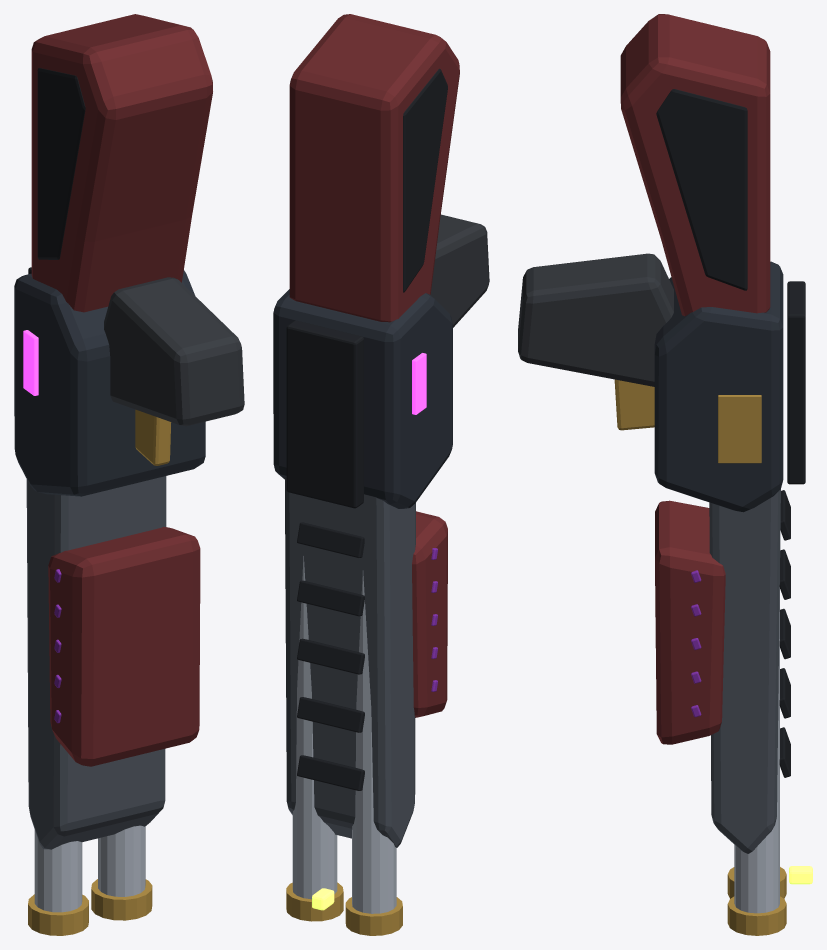
File: BLIKK_B8_BREAKSHOT_MK2.glb
3 views of the same model, side by side, from view 1: azimuth 30°, elevation 25°; view 2: azimuth 150°, elevation 25°; view 3: azimuth 270°, elevation 25° (orthographic). The views are drawn at different scales.
Visible parts, largest first — view 1: Stock, PumpForeEnd, BarrelShroud, Receiver, PistolGrip, StockInset, BarrelLeft, BarrelRight, MuzzleRingRight, MuzzleRingLeft, TriggerGuard, B8Mark; view 2: Stock, BarrelShroud, Receiver, ReceiverTopRail, PumpForeEnd, BarrelLeft, StockInset, BarrelRight, PistolGrip, HeatVent_03, HeatVent_02, HeatVent_04 (+5 smaller); view 3: Stock, Receiver, BarrelShroud, PistolGrip, PumpForeEnd, StockInset, ReceiverTopRail, BarrelRight, EjectionPort, TriggerGuard, MuzzleRingRight.
Part boxes in pixels (x1,y1,x2,y2): Stock: (31,14,212,312); PumpForeEnd: (48,527,200,766); BarrelShroud: (26,476,166,849); Receiver: (14,270,205,496); PistolGrip: (104,277,244,426); StockInset: (37,68,85,259); BarrelLeft: (34,830,82,912); BarrelRight: (98,825,145,896); MuzzleRingRight: (91,879,152,920); MuzzleRingLeft: (28,894,88,935); TriggerGuard: (135,409,171,465); B8Mark: (23,330,38,395); Stock: (289,14,459,322); BarrelShroud: (284,476,415,847); Receiver: (273,289,452,508); ReceiverTopRail: (286,320,363,508); PumpForeEnd: (412,511,447,717); BarrelLeft: (352,570,396,913); StockInset: (403,68,447,292); BarrelRight: (292,556,337,899); PistolGrip: (430,214,489,327); HeatVent_03: (297,697,364,732); HeatVent_02: (297,638,364,674); HeatVent_04: (297,755,364,790); Stock: (620,14,770,316); Receiver: (654,261,783,512); BarrelShroud: (709,489,780,853); PistolGrip: (518,253,673,386); PumpForeEnd: (655,500,725,744); StockInset: (656,89,747,290); ReceiverTopRail: (787,281,805,484); BarrelRight: (734,587,779,913); EjectionPort: (718,395,761,463); TriggerGuard: (614,379,654,430); MuzzleRingRight: (727,896,786,935).
Bounding box in the file's own units: 0.7235 × 4.41 × 1.35.
